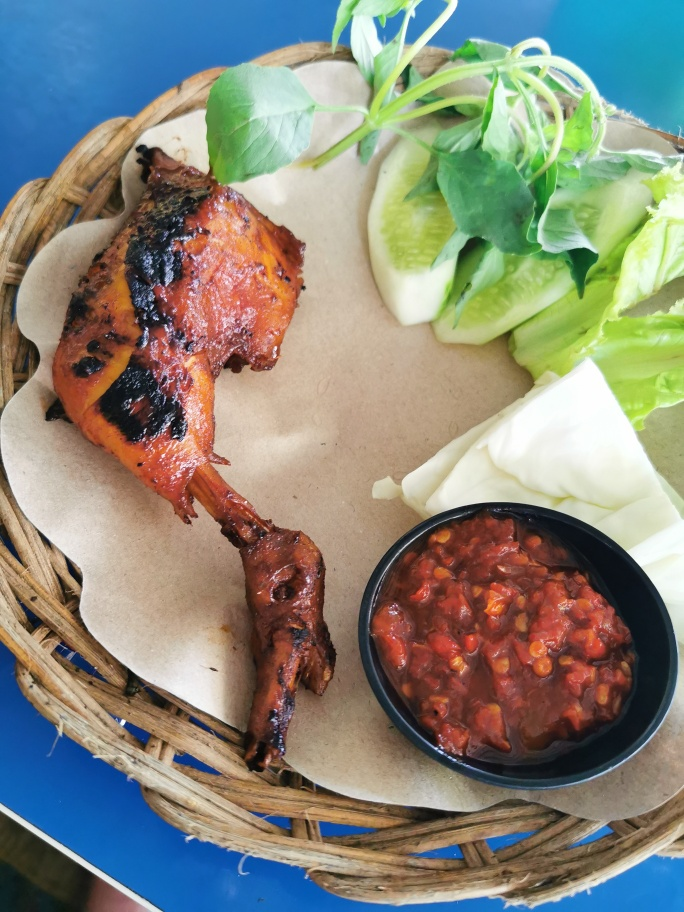ayam bakar: (41, 132, 365, 768)
